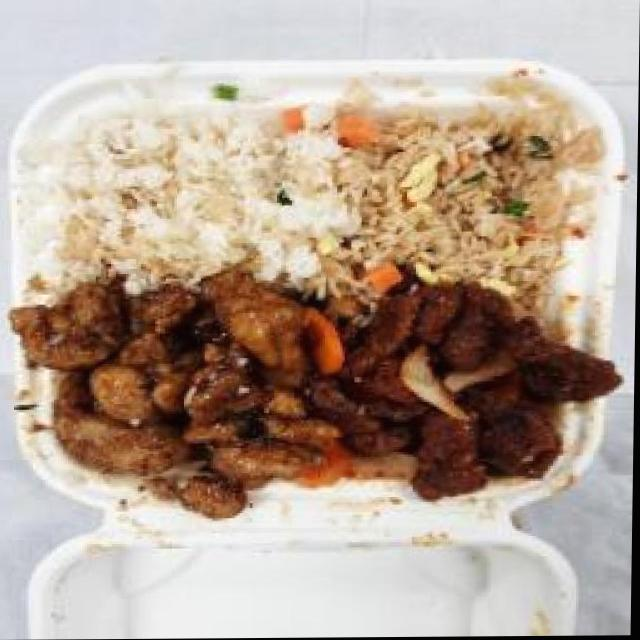Beijing Beef: (317, 279, 630, 504)
Fried Rice: (315, 92, 587, 296)
The Original Orange Chicken: (7, 278, 313, 523)
White Steamed Rice: (49, 113, 319, 283)
